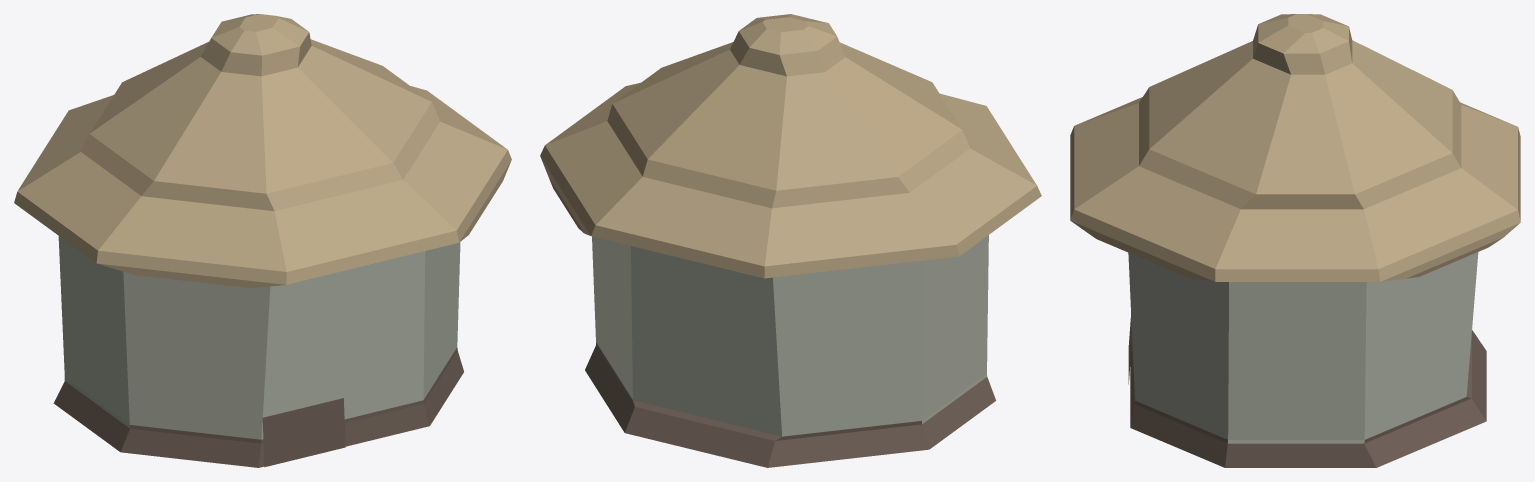
Rendered from loin.glb.
3 views of the same model, side by side, from view 1: azimuth 30°, elevation 25°; view 2: azimuth 150°, elevation 25°; view 3: azimuth 270°, elevation 25° (orthographic).
Parts seen in each view (by area): view 1: loin; view 2: loin; view 3: loin.
Boxes of the visible parts, <box> form: loin: <box>14,14,511,467</box>; loin: <box>540,14,1041,467</box>; loin: <box>1070,14,1520,467</box>.
Bounding box in the file's own units: 0.8866 × 0.7304 × 0.8208.
